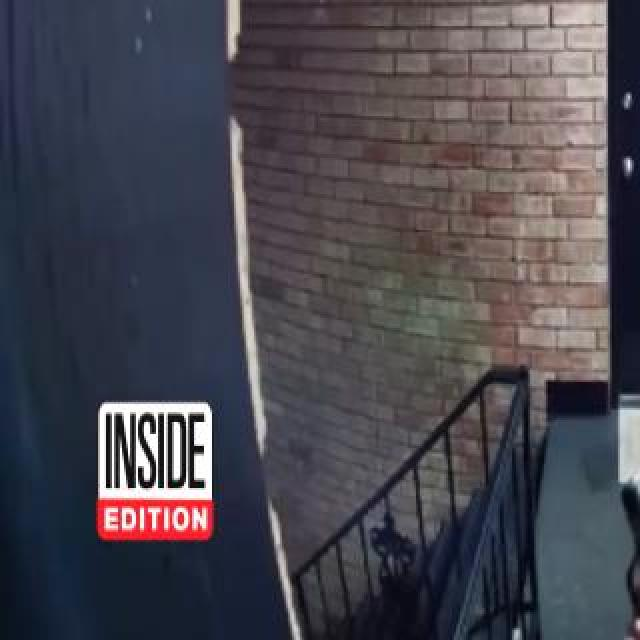Guns: (588, 456, 640, 638)
